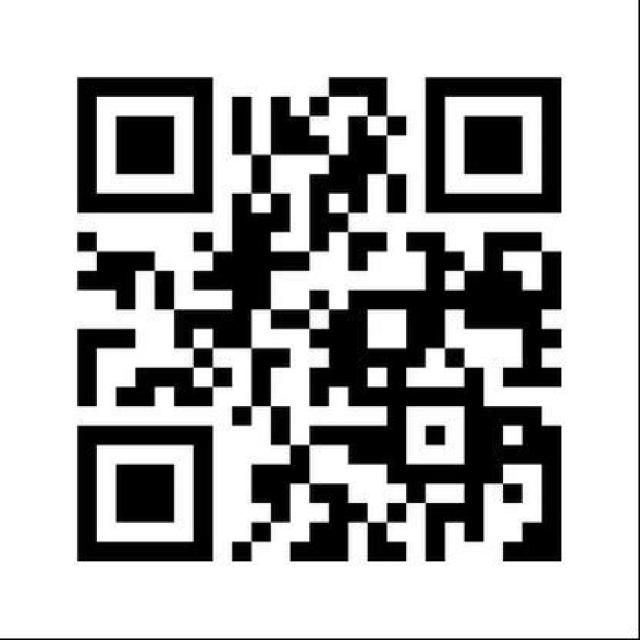QRCode: (67, 68, 570, 568)
